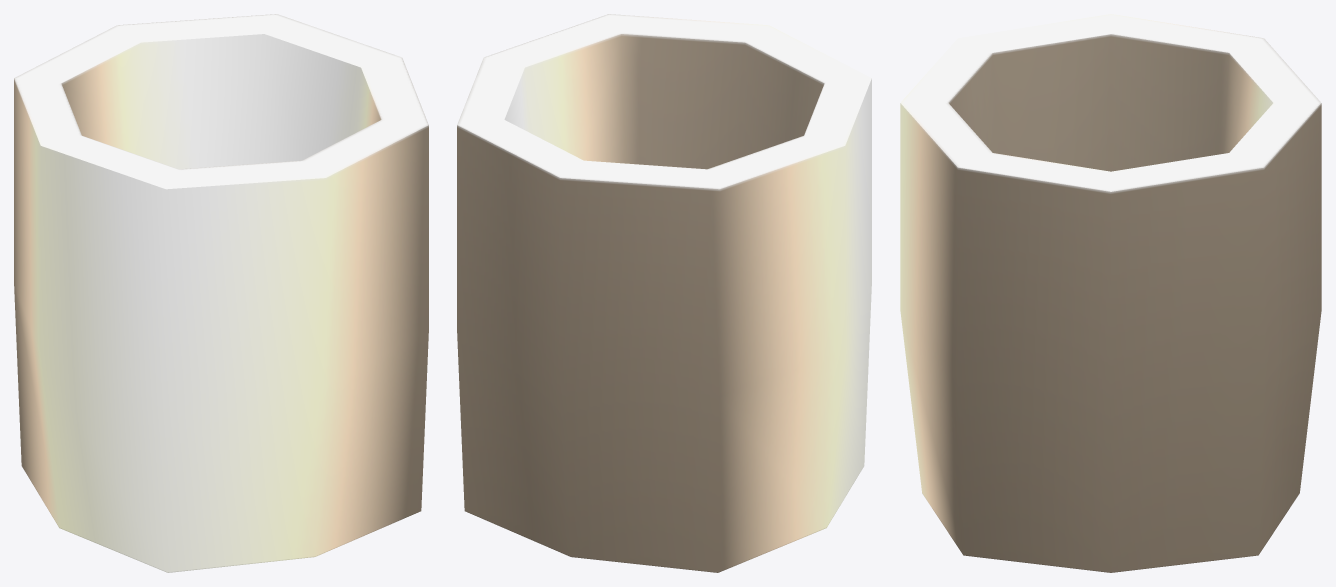
The model's file is Glas_empty.glb.
3 views of the same model, side by side, from view 1: azimuth 30°, elevation 25°; view 2: azimuth 150°, elevation 25°; view 3: azimuth 270°, elevation 25° (orthographic).
Visible parts, largest first — view 1: Glass; view 2: Glass; view 3: Glass.
Boxes of the visible parts, left/top/right/bottom form: Glass: left=14, top=14, right=428, bottom=572; Glass: left=457, top=14, right=871, bottom=572; Glass: left=900, top=14, right=1321, bottom=572.
Bounding box in the file's own units: 0.0538 × 0.055 × 0.0538.
Materials: 1 (1 with a texture image).
